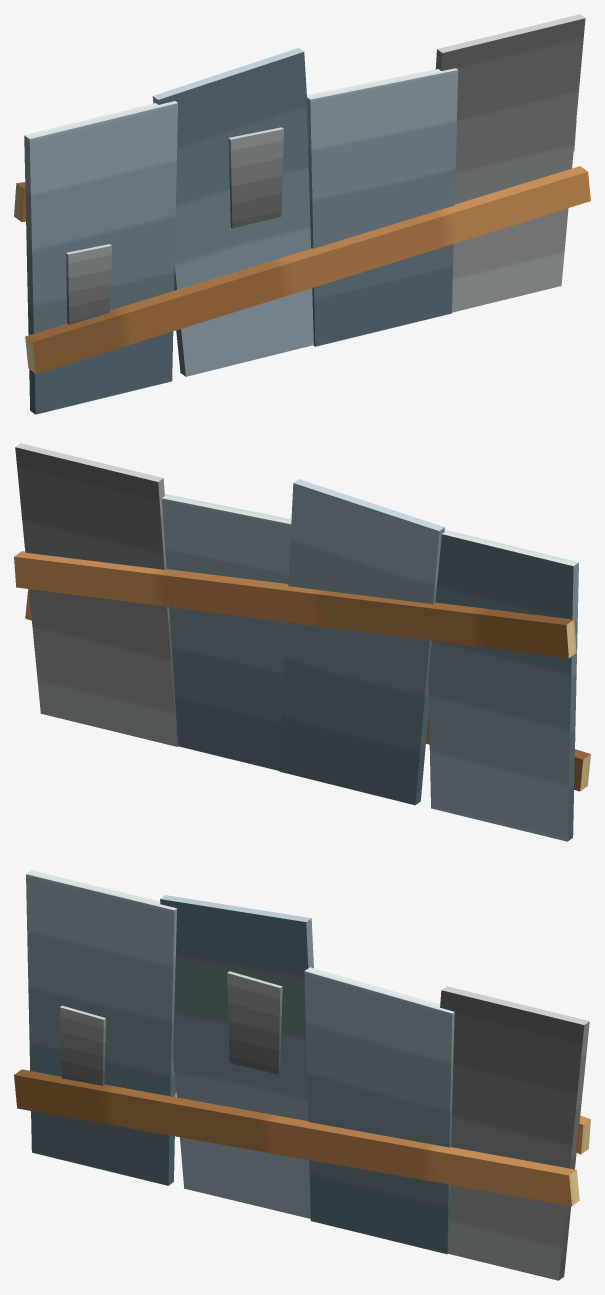
File: wall_004.fbx
The picture shows the model from 3 angles, top to bottom: view 1: azimuth 30°, elevation 25°; view 2: azimuth 150°, elevation 25°; view 3: azimuth 330°, elevation 25°; orthographic projection.
Visible parts, largest first — view 1: wall.004; view 2: wall.004; view 3: wall.004.
Boxes of the visible parts, <box> form: wall.004: <box>14,14,590,414</box>; wall.004: <box>14,443,590,841</box>; wall.004: <box>14,870,590,1280</box>.
Size of the model in its own units: 36.85 by 18.48 by 2.33.
